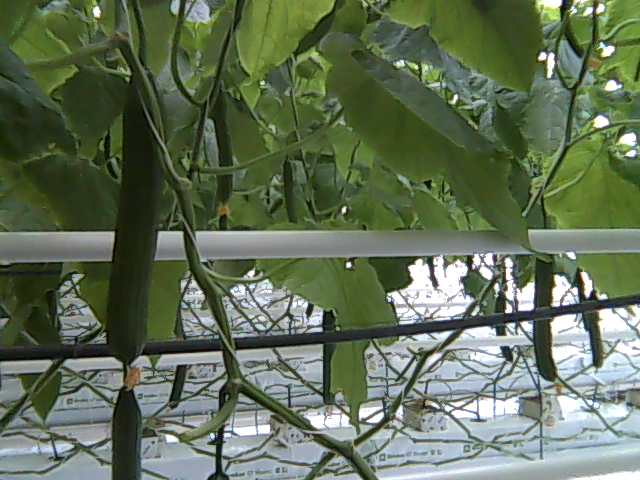concombre: (104, 50, 160, 391), (107, 382, 146, 480)
